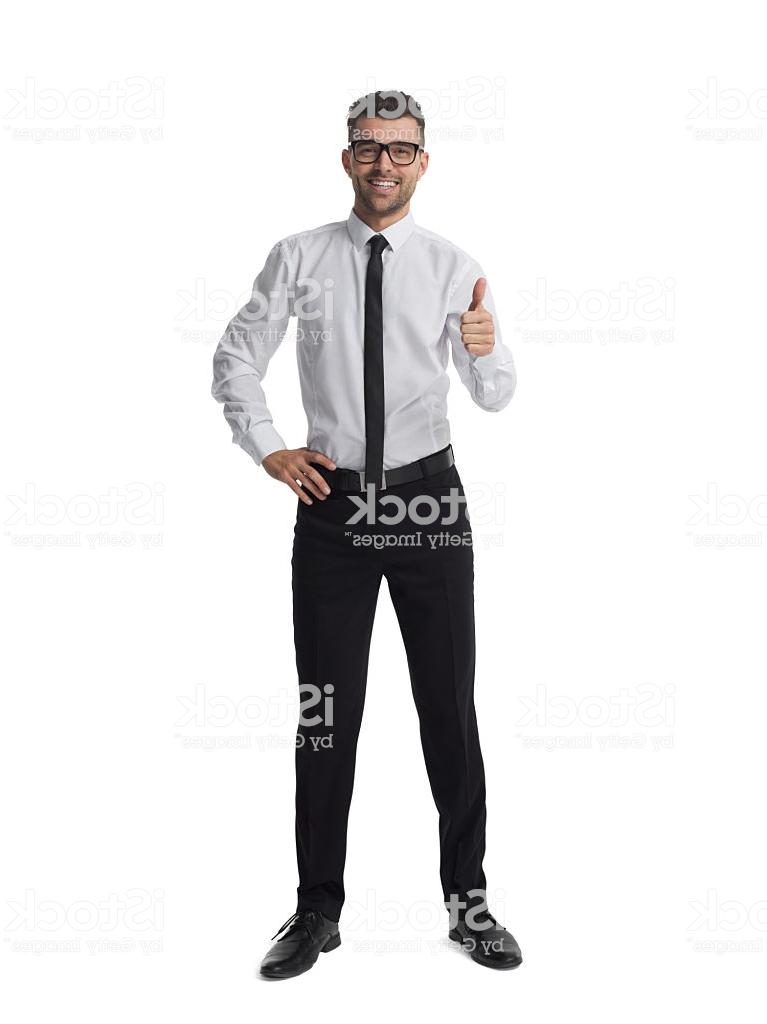thumbsup: (460, 277, 497, 357)
